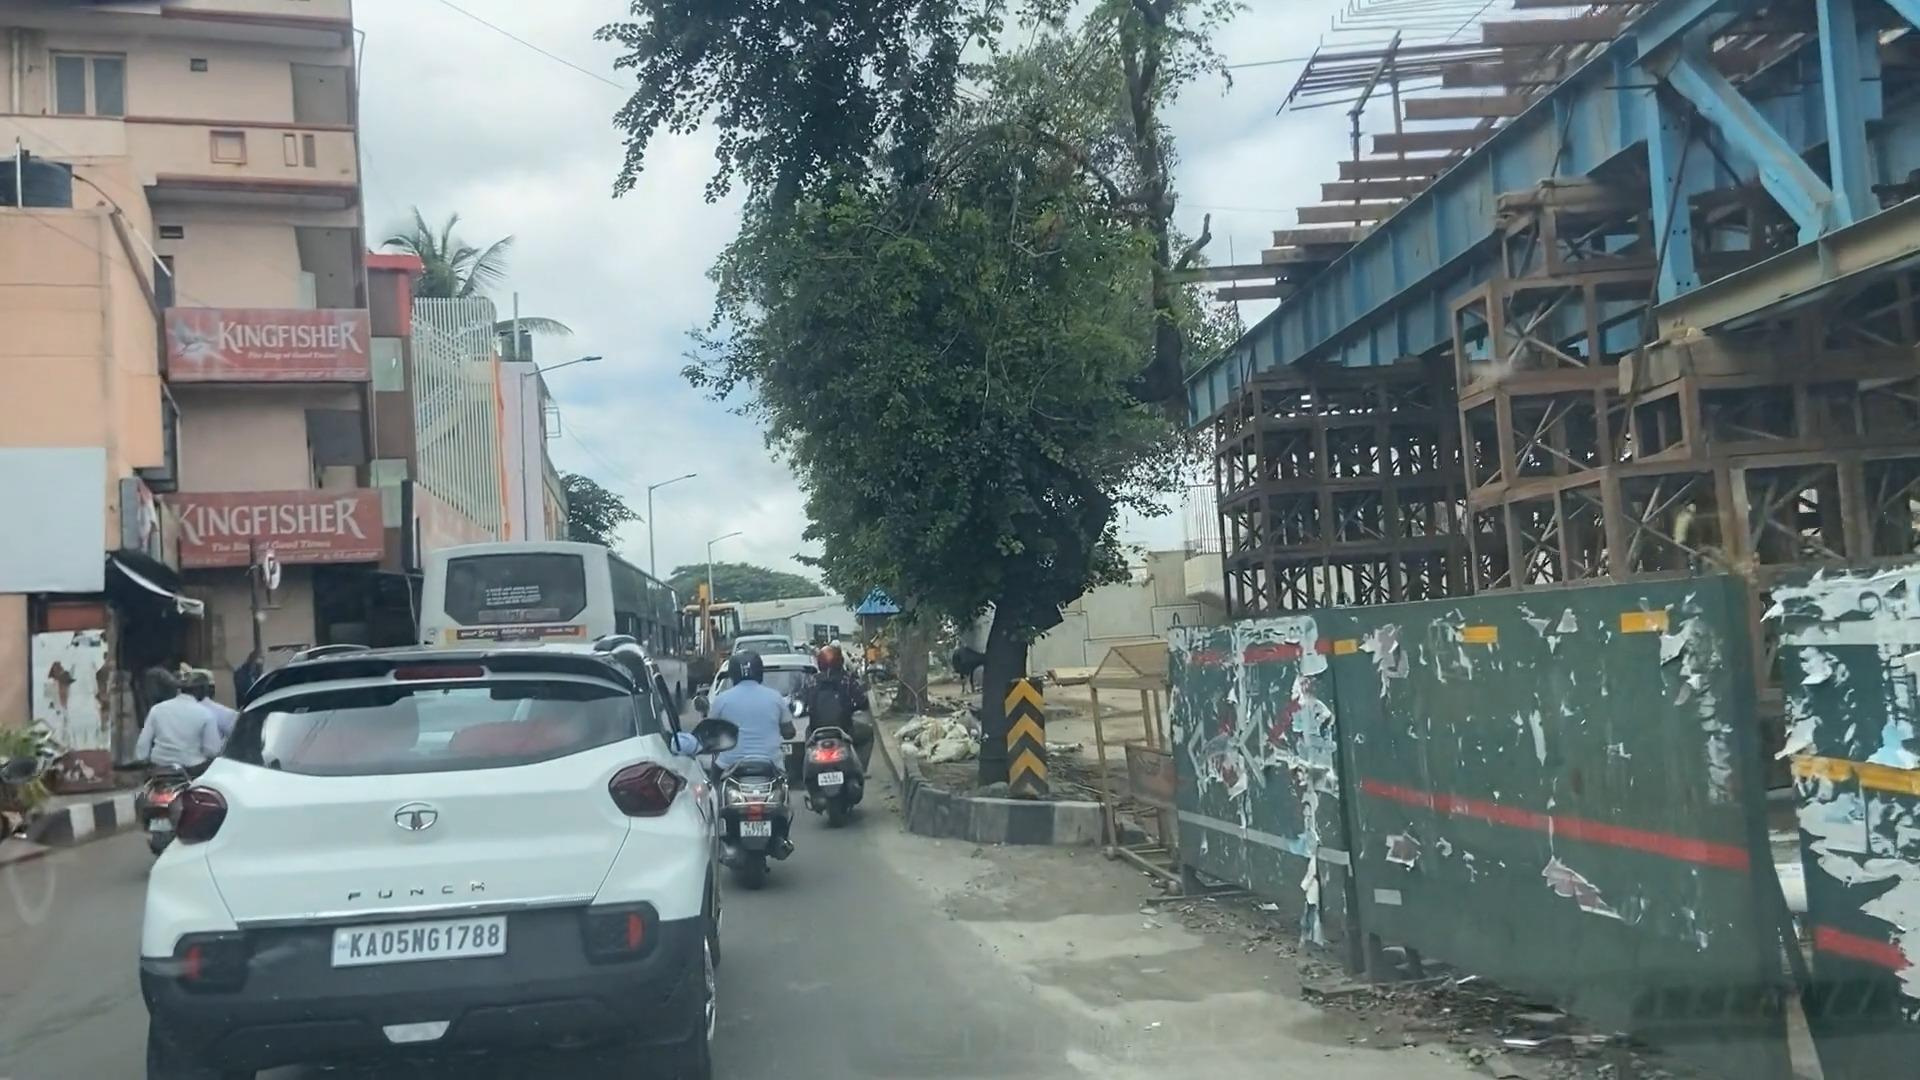LMV: (166, 698, 684, 1051), (720, 640, 787, 873), (818, 642, 872, 816)
RoadDamages: (1138, 953, 1378, 1080), (949, 880, 1113, 1033)
